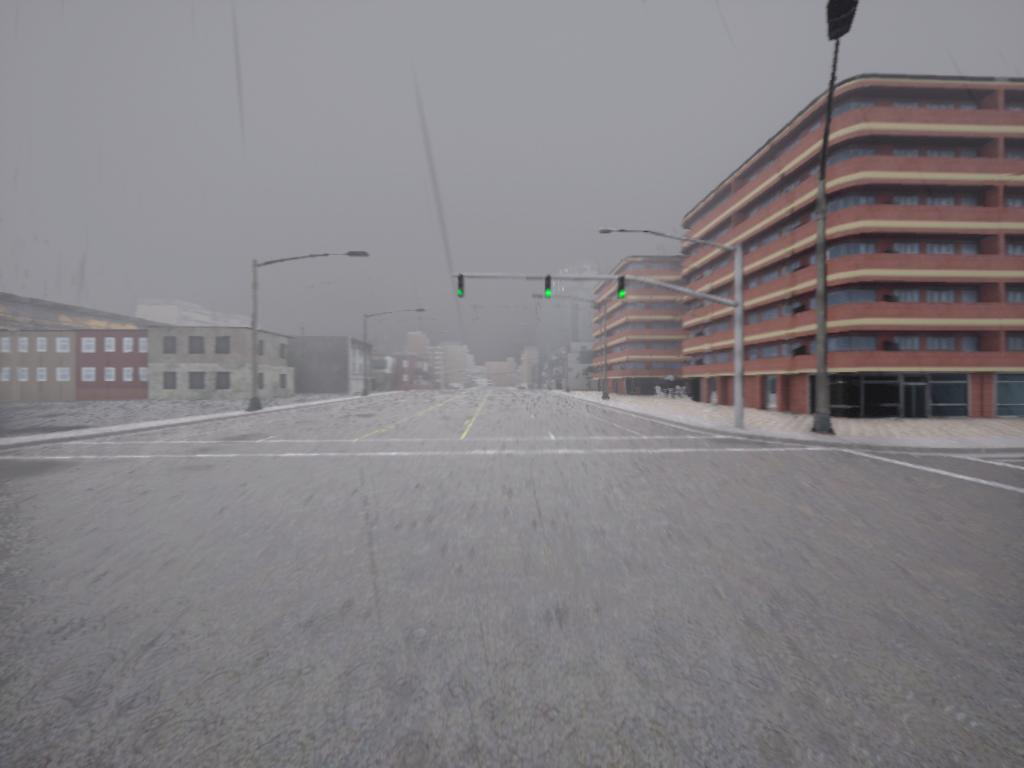traffic_light: (616, 275, 629, 300), (543, 277, 555, 299), (455, 278, 466, 300)
